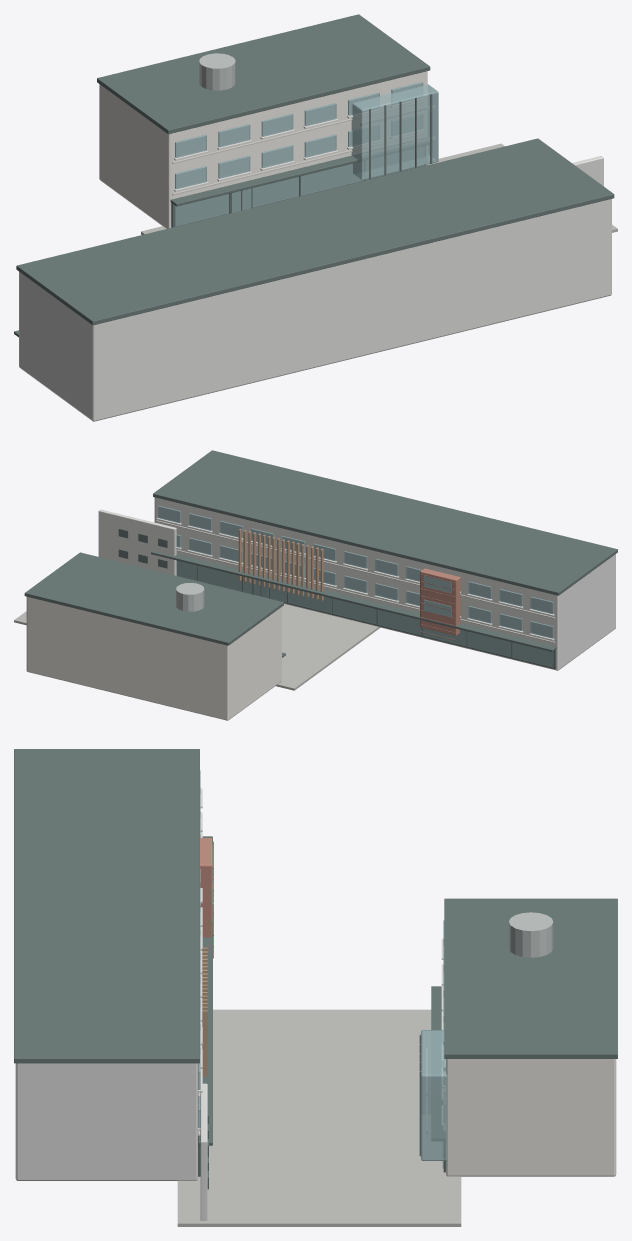
The model's file is xingfuli-east.glb.
The picture shows the model from 3 angles, top to bottom: view 1: azimuth 30°, elevation 25°; view 2: azimuth 150°, elevation 25°; view 3: azimuth 270°, elevation 25°; orthographic projection. The views are drawn at different scales.
Parts seen in each view (by area): view 1: xingfuli-east; view 2: xingfuli-east; view 3: xingfuli-east.
Boxes of the visible parts, box(x1,y1,x2,y2) form: xingfuli-east: box(14, 14, 617, 421); xingfuli-east: box(14, 450, 617, 720); xingfuli-east: box(14, 749, 617, 1226).
Bounding box in the file's own units: 41.09 × 8.38 × 29.83.
